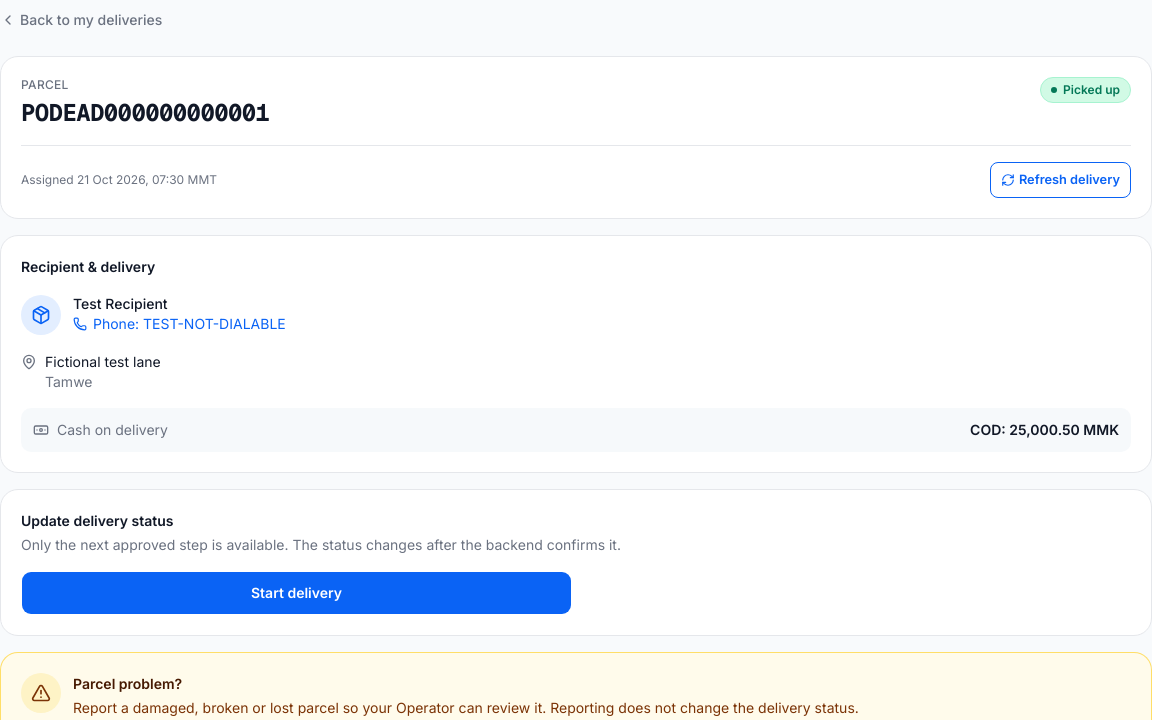
Test: refreshes on 409 and preserves feedback
This screenshot has width=1152, height=720.
Step 1. Click the button "Start delivery" → (296, 593), box [21, 571, 572, 615]
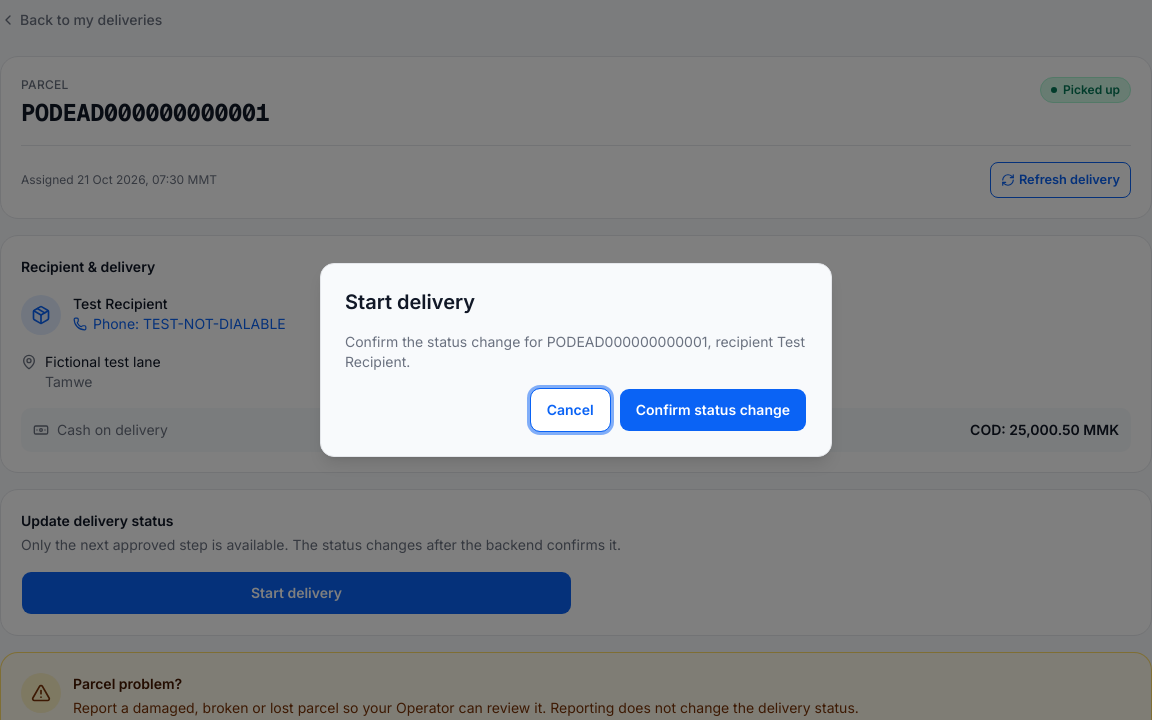
Step 2. Click the button "Confirm status change" → (713, 410), box [619, 388, 807, 432]
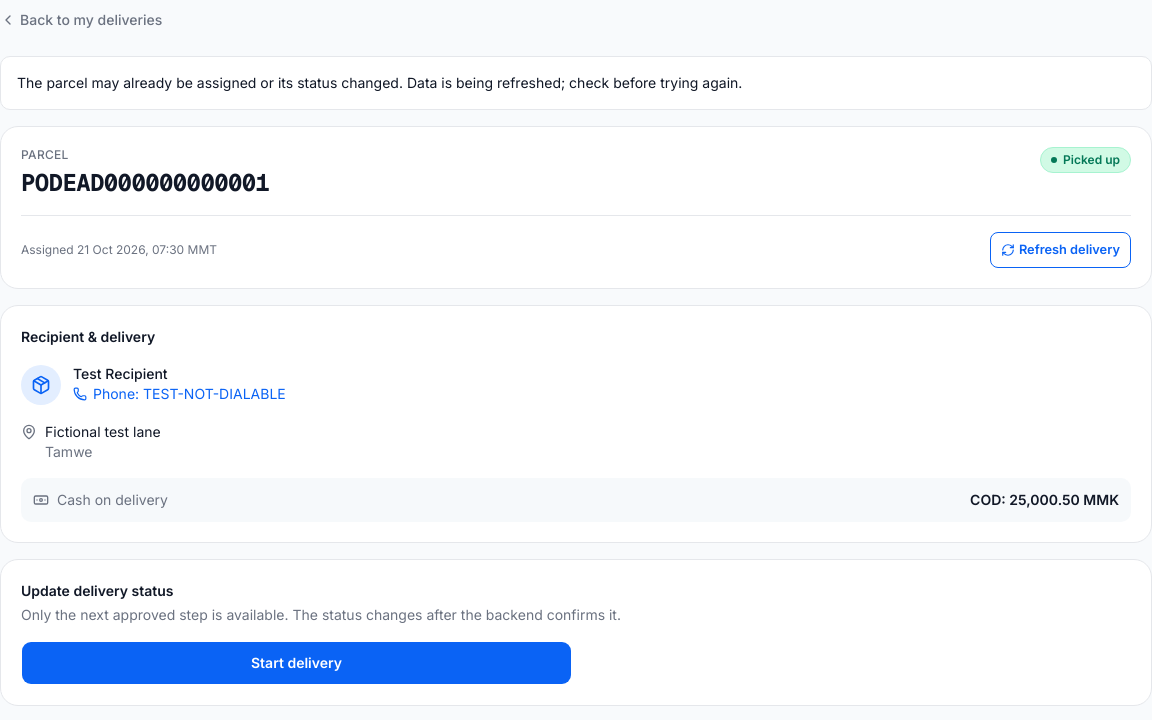
Now the message shows "status changed", box [17, 74, 742, 91]
